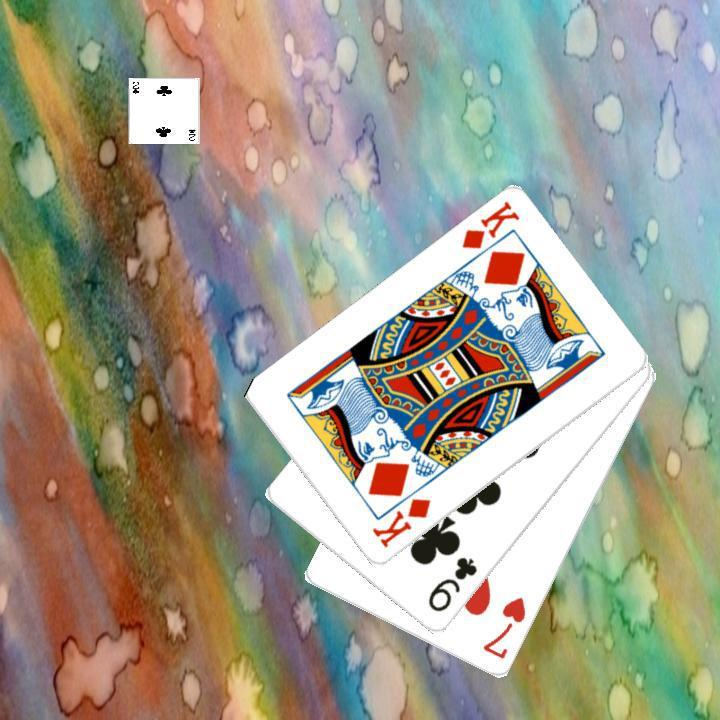7: (478, 592, 528, 662)
9: (423, 553, 480, 615)
K: (367, 494, 433, 550), (457, 197, 522, 252)
